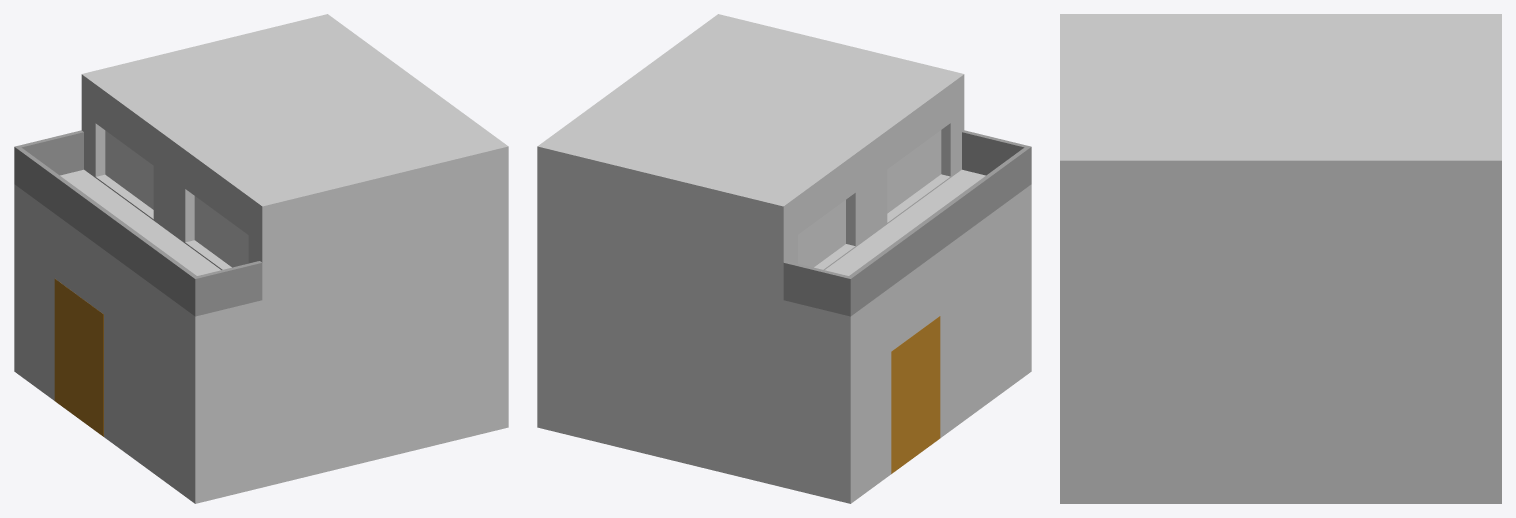
File: house3Fix.fbx
3 renders of one model, left to right at view 1: azimuth 30°, elevation 25°; view 2: azimuth 150°, elevation 25°; view 3: azimuth 270°, elevation 25°, orthographic. The views are drawn at different scales.
Parts seen in each view (by area): view 1: polySurface3, pCube1; view 2: polySurface3, pCube1; view 3: polySurface3.
Part boxes in pixels (<box>): polySurface3: <box>14,14,508,503</box>; pCube1: <box>54,279,103,436</box>; polySurface3: <box>537,14,1031,503</box>; pCube1: <box>891,316,940,473</box>; polySurface3: <box>1060,14,1501,503</box>.
Bounding box in the file's own units: 700 × 600 × 700.
